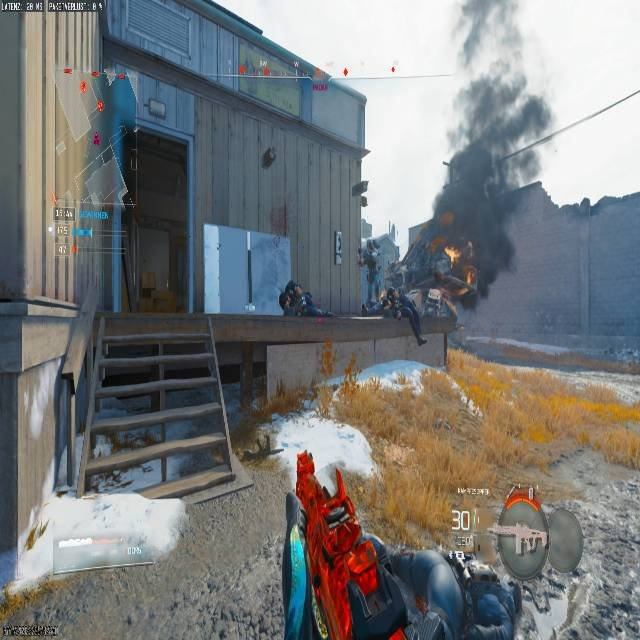head: (494, 499, 551, 578), (285, 280, 296, 293), (292, 282, 301, 297)
player: (356, 232, 387, 311), (279, 280, 313, 316)
